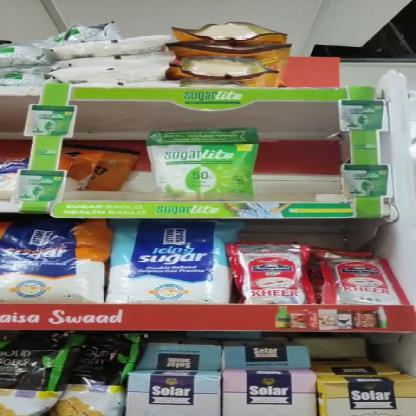SUGARLITE POUCH 500G: (150, 129, 257, 203)
